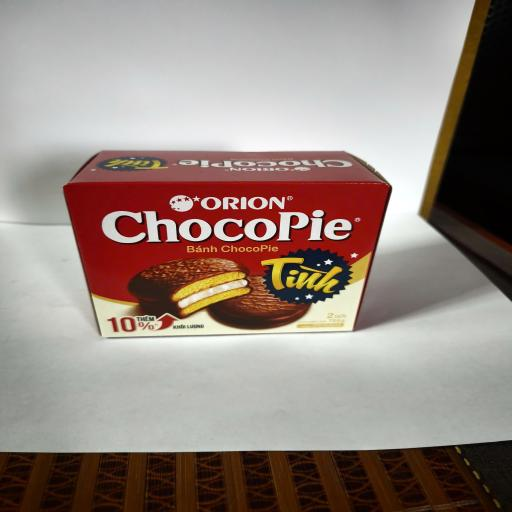chocopie: (63, 150, 392, 338)
